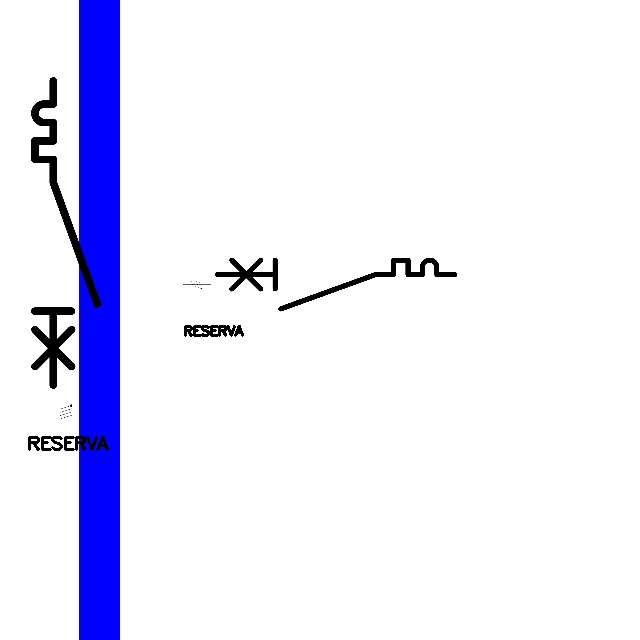interruptor_termomagnetico: (27, 73, 105, 393), (211, 254, 461, 315)
